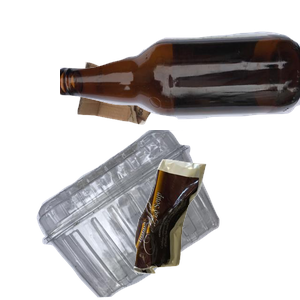cardboard: (75, 59, 237, 176)
glass: (60, 29, 300, 141)
plastic: (34, 130, 246, 300)
trash: (131, 157, 300, 300)
